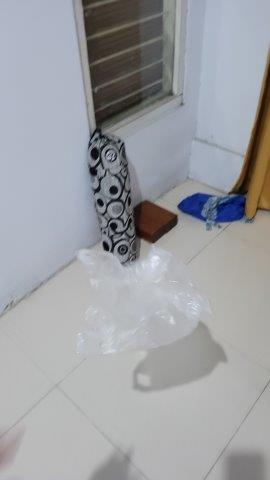plastik: (75, 248, 214, 356)
